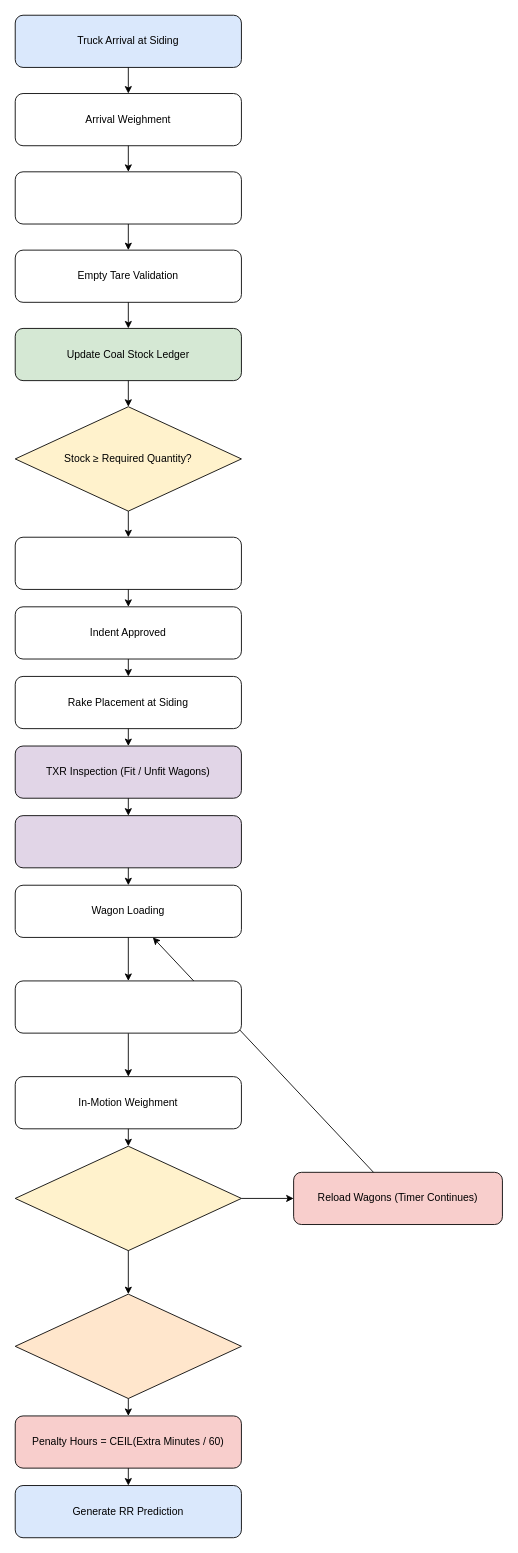
Image size: 518x1553. Some labels were removed from this diagram. Here are the shapes that lost their labels. From the top down, the centre of each, then its label:
At point 127,197: "Unload Coal".
At point 127,562: "Raise Indent".
At point 127,841: "Start 3-Hour Loading Window".
At point 127,1006: "Post Checking After Rake Lodin by railway".
At point 127,1198: "Weighment Passed?".
At point 127,1346: "Total Time > 180 Minutes?".
